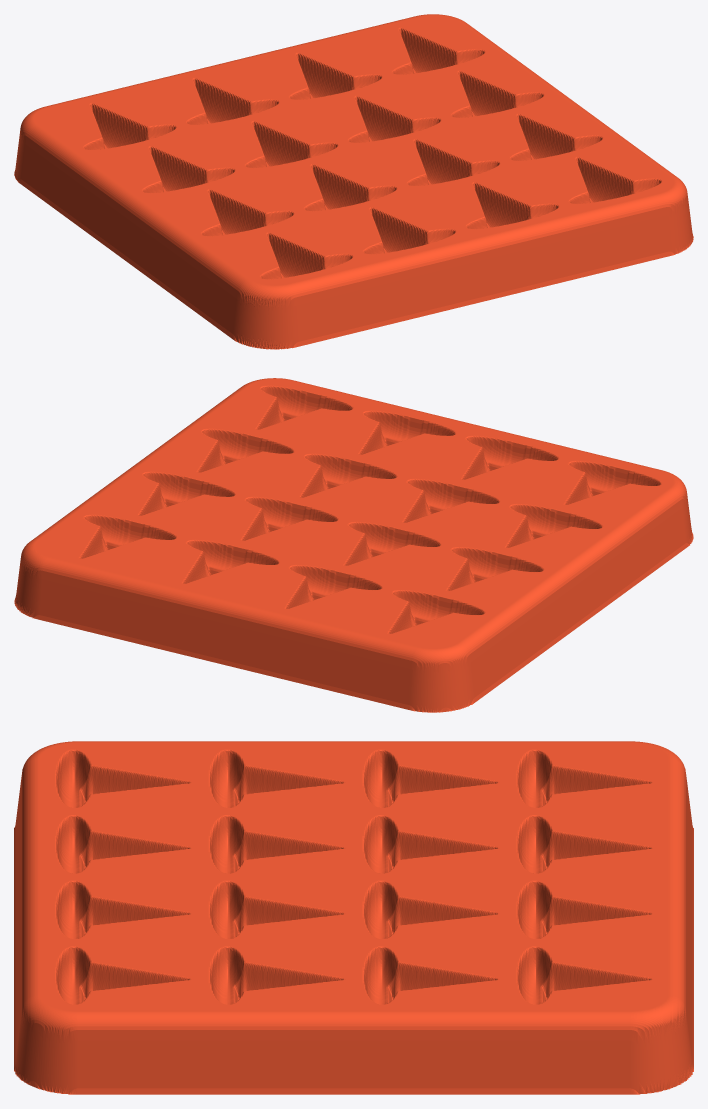
The model's file is mold.glb.
3 views of the same model, one above another, from view 1: azimuth 30°, elevation 25°; view 2: azimuth 150°, elevation 25°; view 3: azimuth 270°, elevation 25° (orthographic). The views are drawn at different scales.
Visible parts, largest first — view 1: geometry_0; view 2: geometry_0; view 3: geometry_0.
Boxes of the visible parts, left/top/right/bottom form: geometry_0: left=14, top=14, right=693, bottom=349; geometry_0: left=14, top=378, right=693, bottom=712; geometry_0: left=14, top=741, right=693, bottom=1094.
Bounding box in the file's own units: 0.0972 × 0.0114 × 0.0964.
